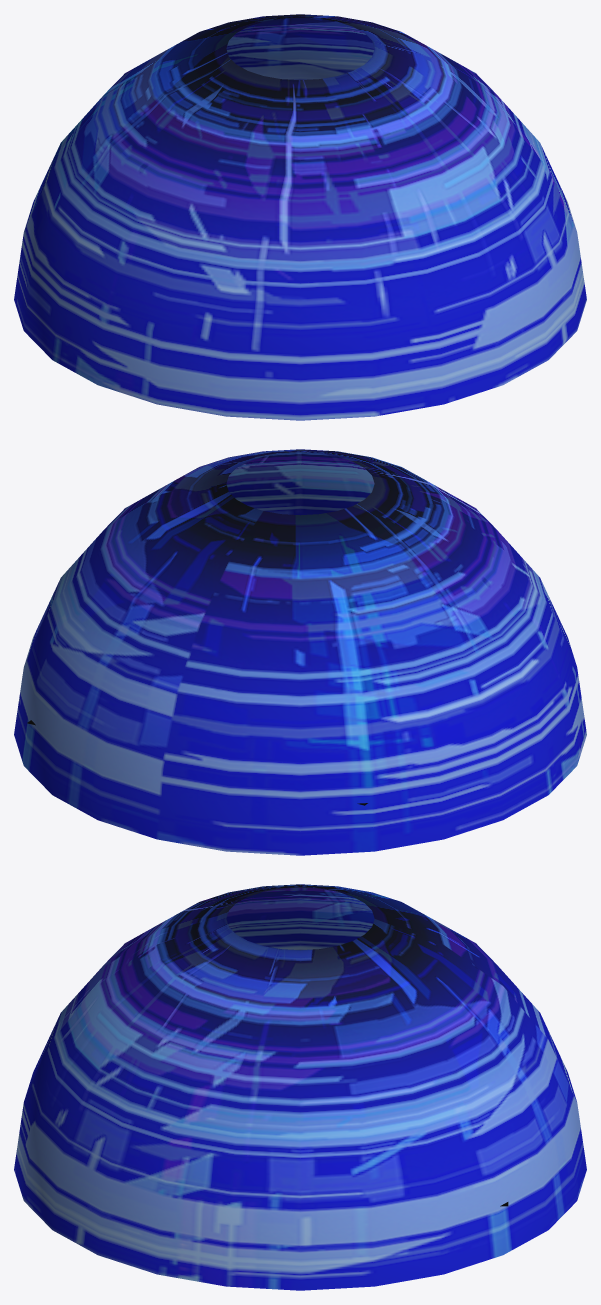
Rendered from StageVer5.FBX.
3 views of the same model, one above another, from view 1: azimuth 30°, elevation 25°; view 2: azimuth 150°, elevation 25°; view 3: azimuth 270°, elevation 25° (orthographic).
Parts seen in each view (by area): view 1: Sphere001; view 2: Sphere001; view 3: Sphere001.
Boxes of the visible parts, box(x1,y1,x2,y2) form: Sphere001: box(14, 14, 586, 420); Sphere001: box(14, 449, 586, 855); Sphere001: box(14, 884, 586, 1290).
Size of the model in its own units: 202 by 97.46 by 202.
